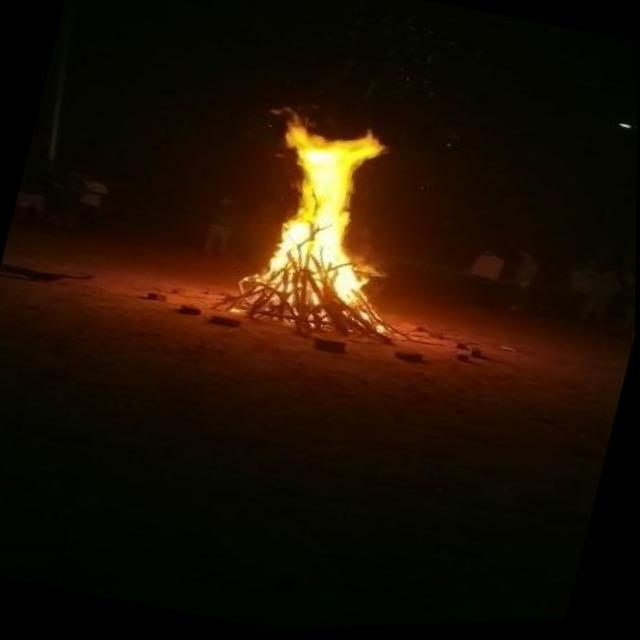fire: (208, 89, 424, 342)
